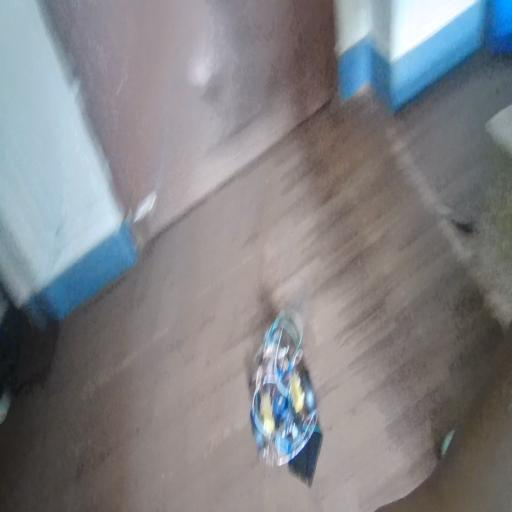car: (237, 316, 333, 511)
